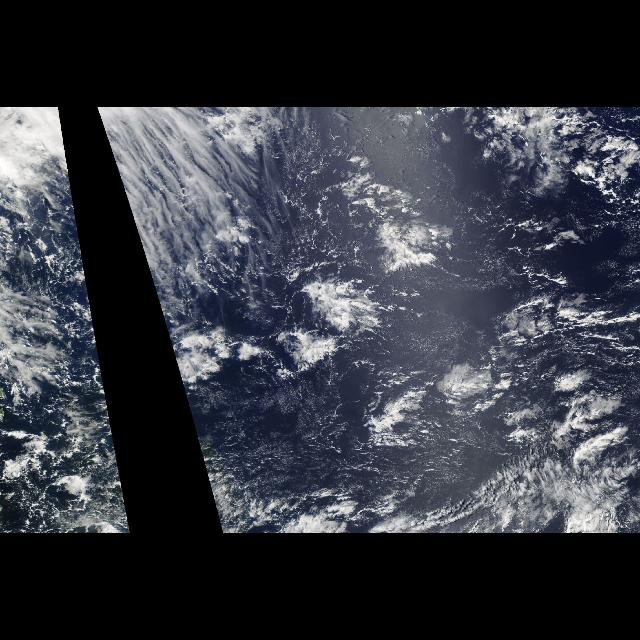Gravel: (283, 124, 509, 456)
